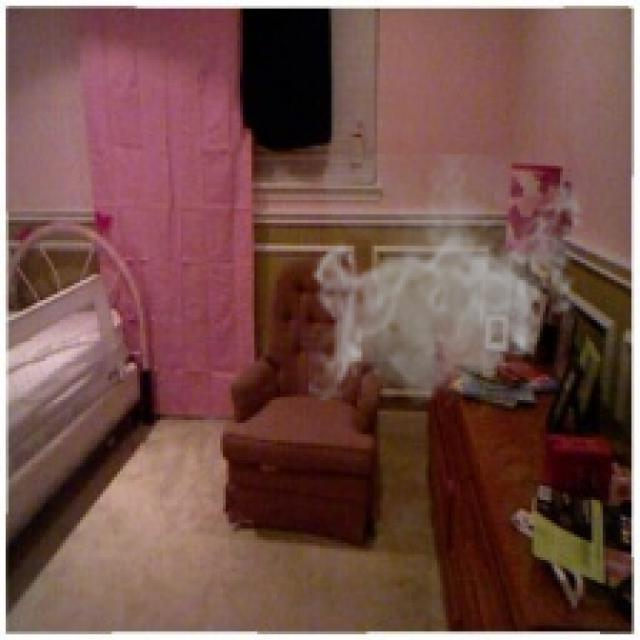Smoke: (308, 154, 592, 414)
